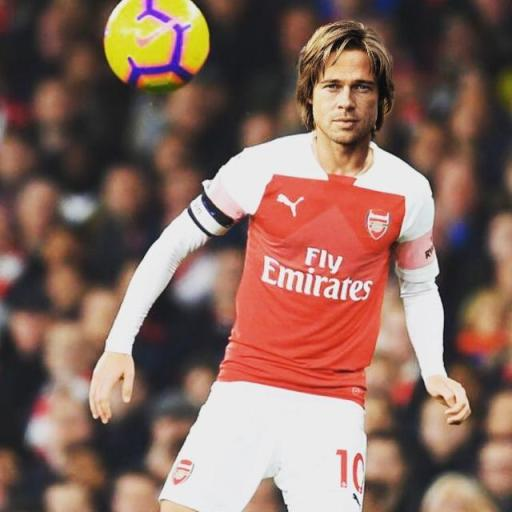Emirates: (260, 245, 376, 302)
